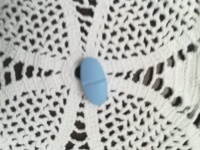Majezik: (77, 56, 109, 107)
